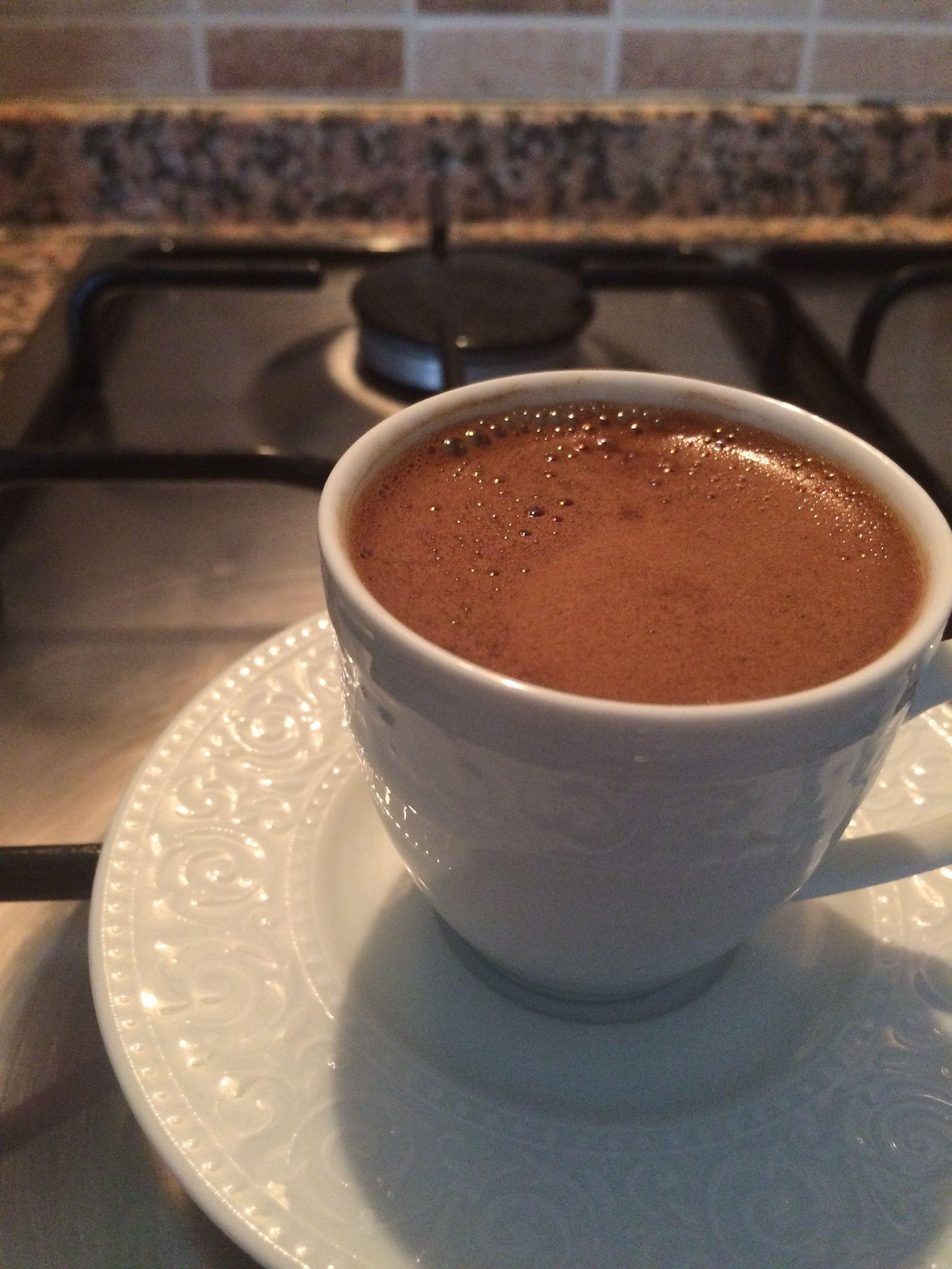cup-handle: (313, 367, 952, 1017)
